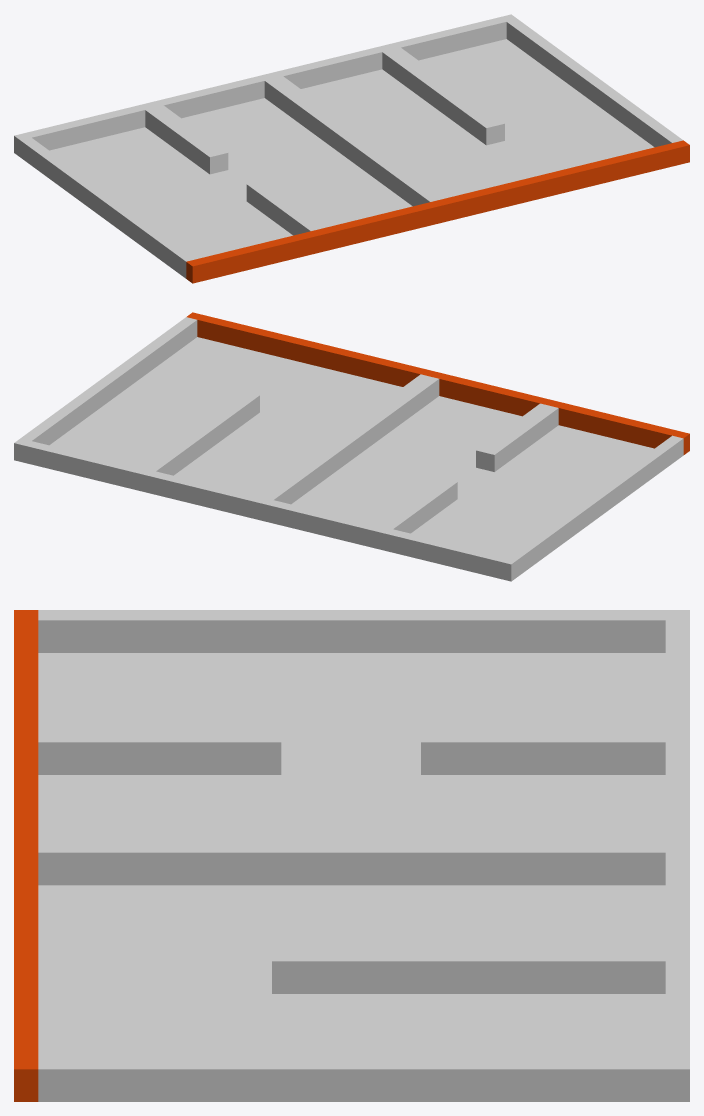
File: LVL1V2.fbx
3 renders of one model, top to bottom at view 1: azimuth 30°, elevation 25°; view 2: azimuth 150°, elevation 25°; view 3: azimuth 270°, elevation 25°, orthographic. The views are drawn at different scales.
Visible parts, largest first — view 1: Plane.002, Cube.002, Cube.003, Cube.005, Cube.004, Cube.001, Cube.006, Cube.007, Cube.008; view 2: Plane.002, Cube.003, Cube.002, Cube.005, Cube.004, Cube.001, Cube.006, Cube.008, Cube.007; view 3: Plane.002, Cube.005, Cube.001, Cube.004, Cube.006, Cube.002, Cube.003, Cube.007, Cube.008.
Boxes of the visible parts, bbox=[...] form: Plane.002: bbox=[49, 39, 654, 258]; Cube.002: bbox=[186, 140, 689, 283]; Cube.003: bbox=[14, 14, 516, 156]; Cube.005: bbox=[264, 76, 448, 206]; Cube.004: bbox=[20, 137, 196, 278]; Cube.001: bbox=[506, 19, 682, 147]; Cube.006: bbox=[382, 47, 504, 145]; Cube.007: bbox=[145, 105, 228, 174]; Cube.008: bbox=[246, 180, 328, 235]; Plane.002: bbox=[49, 337, 654, 556]; Cube.003: bbox=[14, 438, 517, 581]; Cube.002: bbox=[187, 312, 689, 454]; Cube.005: bbox=[255, 374, 439, 504]; Cube.004: bbox=[507, 435, 683, 576]; Cube.001: bbox=[21, 317, 197, 445]; Cube.006: bbox=[138, 391, 259, 475]; Cube.008: bbox=[476, 403, 558, 471]; Cube.007: bbox=[375, 477, 457, 533]; Plane.002: bbox=[38, 653, 665, 1058]; Cube.005: bbox=[38, 835, 665, 885]; Cube.001: bbox=[38, 1059, 665, 1101]; Cube.004: bbox=[38, 610, 665, 652]; Cube.006: bbox=[272, 944, 665, 993]; Cube.002: bbox=[14, 610, 38, 1101]; Cube.003: bbox=[665, 610, 689, 1101]; Cube.007: bbox=[421, 725, 665, 774]; Cube.008: bbox=[38, 725, 281, 774].
Size of the model in its own units: 1278 by 42.24 by 795.
